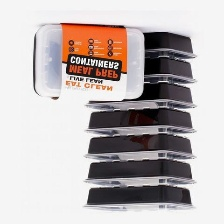plastic_box: (76, 25, 203, 219), (23, 17, 150, 109)
